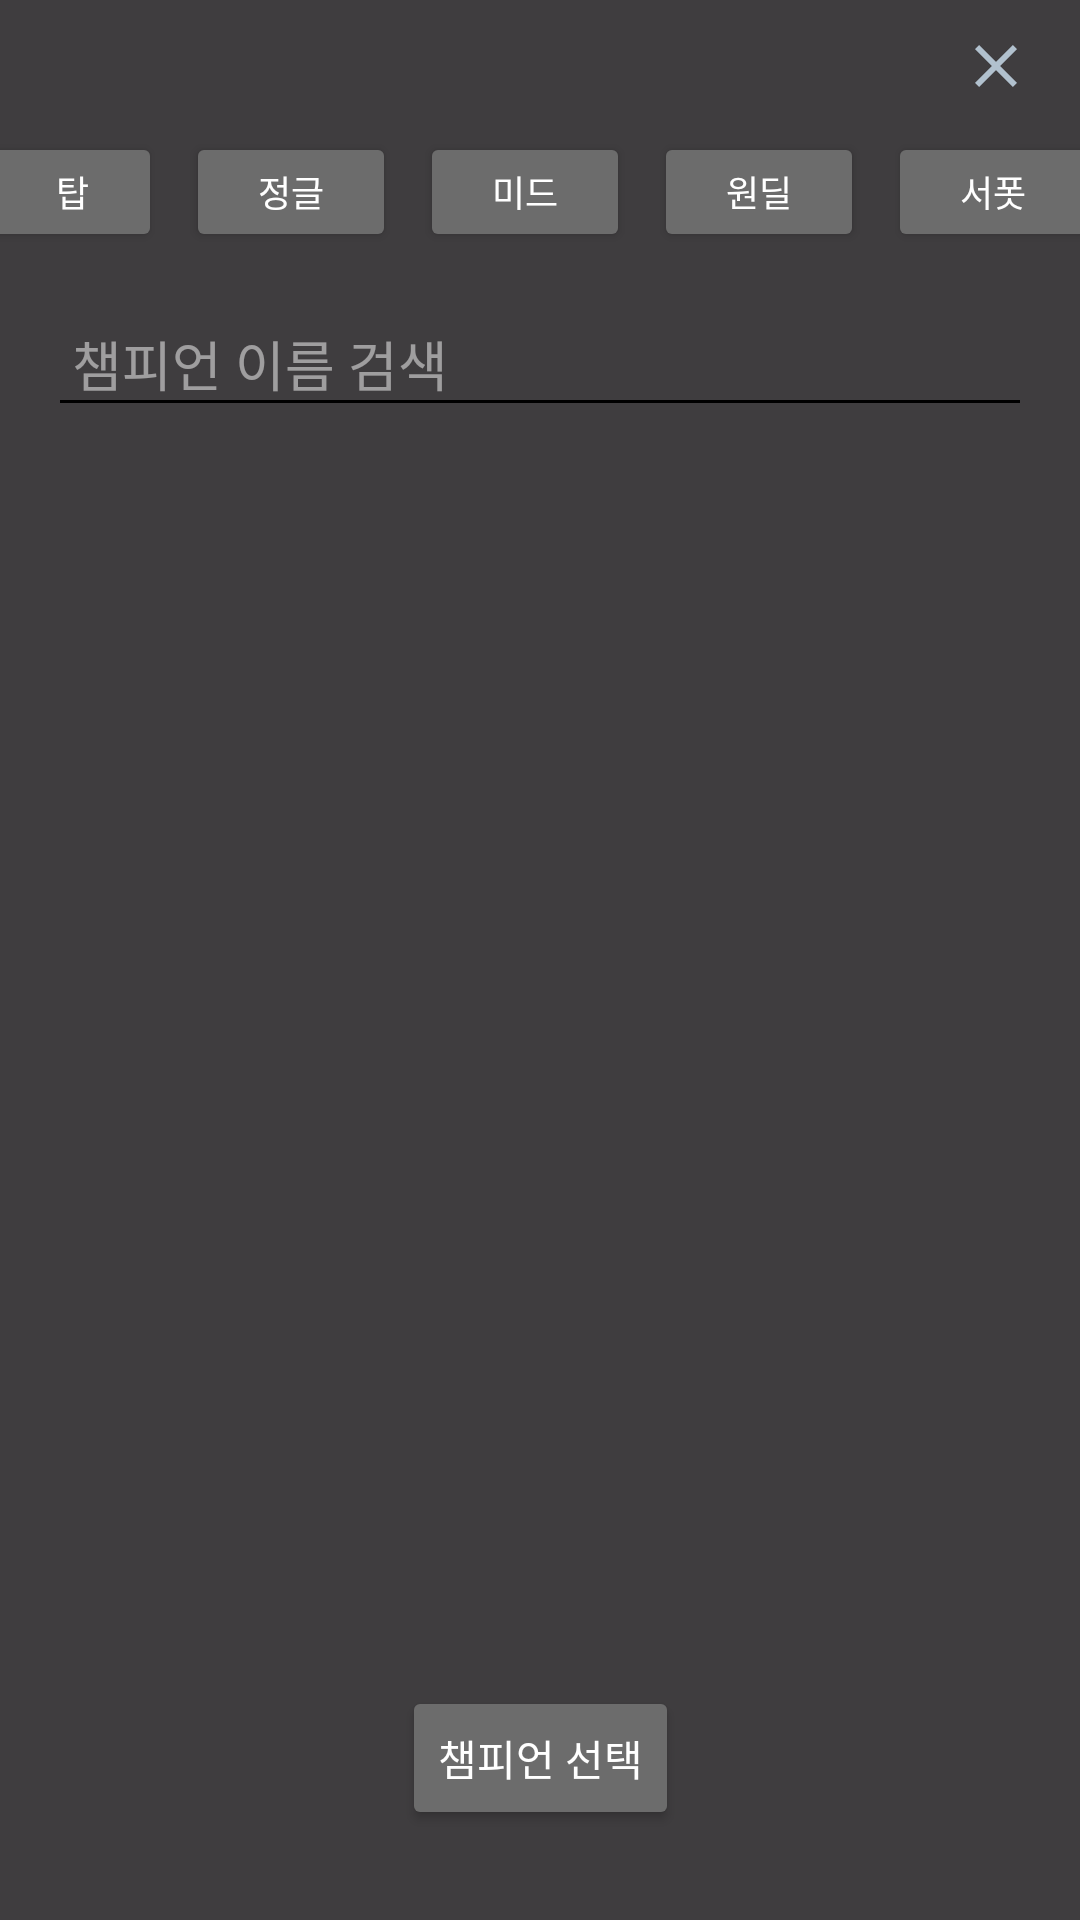

Icon click points for this 1080px×1920px phone screenshot, format (x=x, y=y):
delete: (x=996, y=66)
